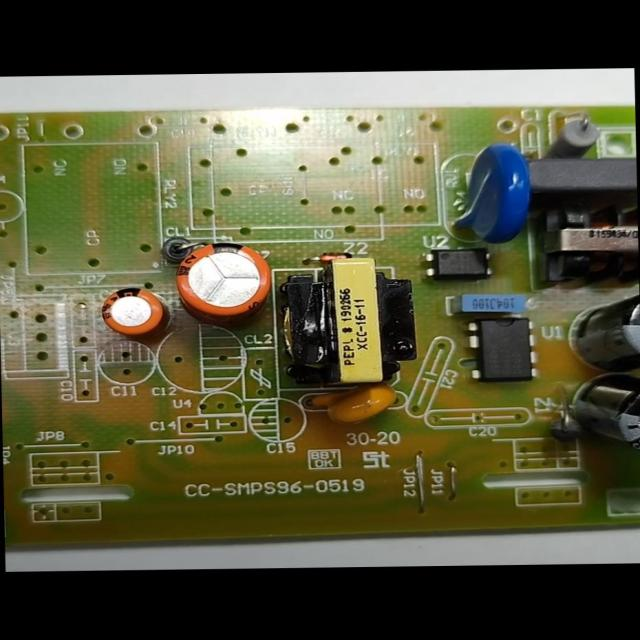Cap1: (167, 240, 274, 320)
Cap2: (96, 284, 166, 341)
Cap3: (568, 286, 639, 378)
Cap4: (564, 373, 639, 463)
MOSFET: (468, 314, 539, 384)
Mov: (444, 139, 544, 249)
Resistor: (540, 113, 606, 162)
Transformer: (272, 252, 419, 388), (526, 198, 638, 290)
